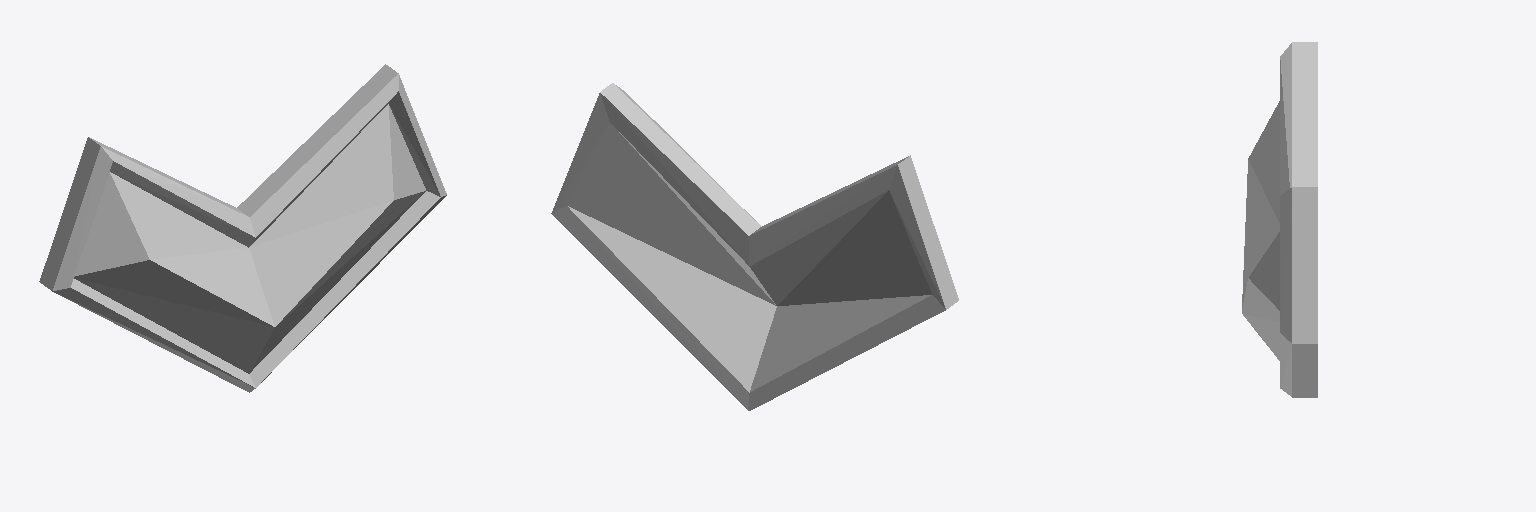
Rendered from akali.obj.
The picture shows the model from 3 angles: view 1: azimuth 30°, elevation 25°; view 2: azimuth 150°, elevation 25°; view 3: azimuth 270°, elevation 25°; orthographic projection.
Parts seen in each view (by area): view 1: initialShadingGroup polySurface14 polySurface10; view 2: initialShadingGroup polySurface14 polySurface10; view 3: initialShadingGroup polySurface14 polySurface10.
Boxes of the visible parts, x1=… form: initialShadingGroup polySurface14 polySurface10: x1=39, y1=64, x2=446, y2=392; initialShadingGroup polySurface14 polySurface10: x1=551, y1=83, x2=958, y2=410; initialShadingGroup polySurface14 polySurface10: x1=1242, y1=42, x2=1317, y2=397.
Size of the model in its own units: 2.8 by 1.92 by 0.4704.